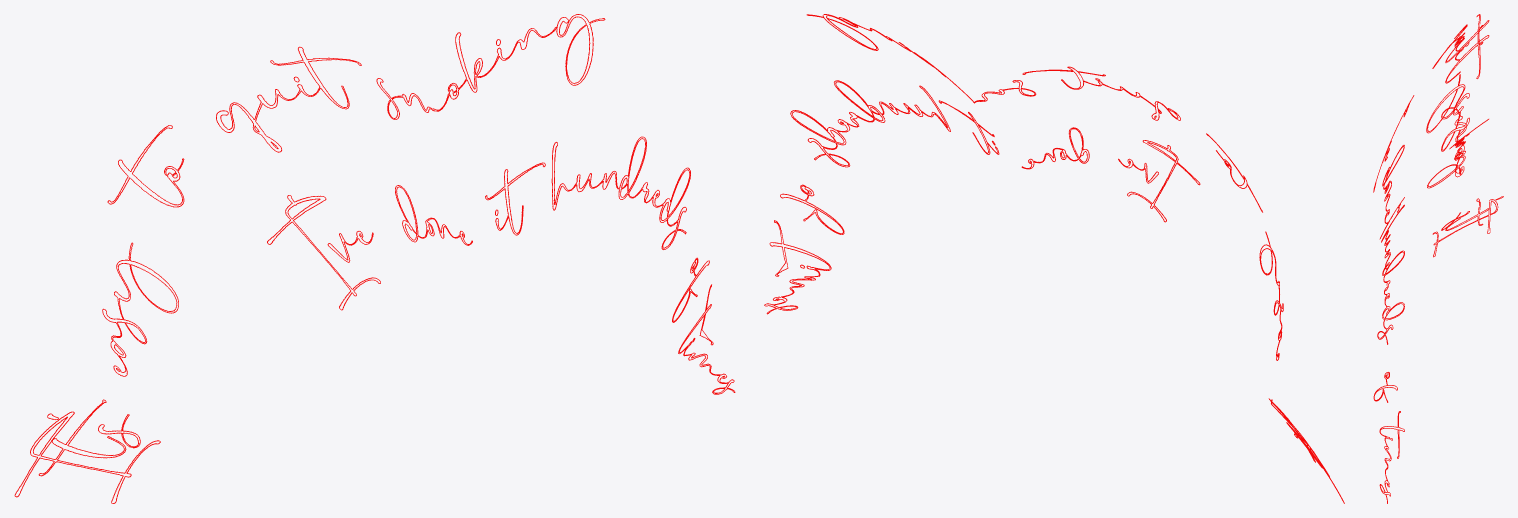
3 views of the same model, side by side, from view 1: azimuth 30°, elevation 25°; view 2: azimuth 150°, elevation 25°; view 3: azimuth 270°, elevation 25° (orthographic). The views are drawn at different scales.
Bounding box in the file's own units: 1.54 × 0.873 × 0.3228.
